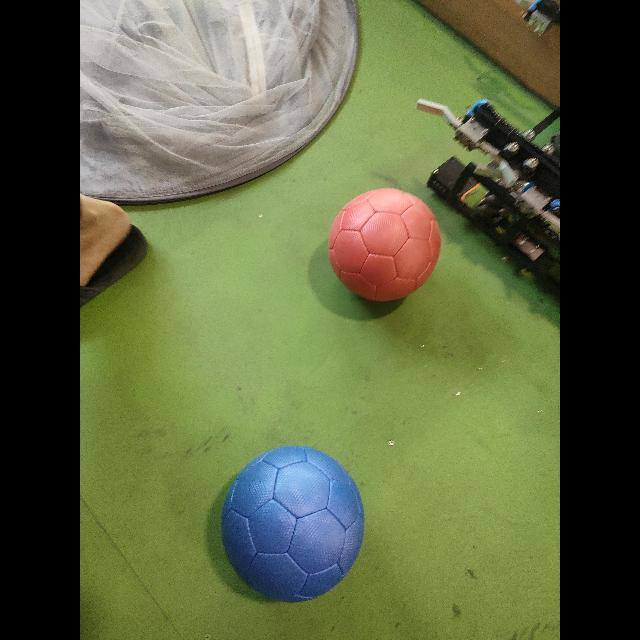B: (221, 446, 364, 602)
R: (329, 189, 441, 301)
